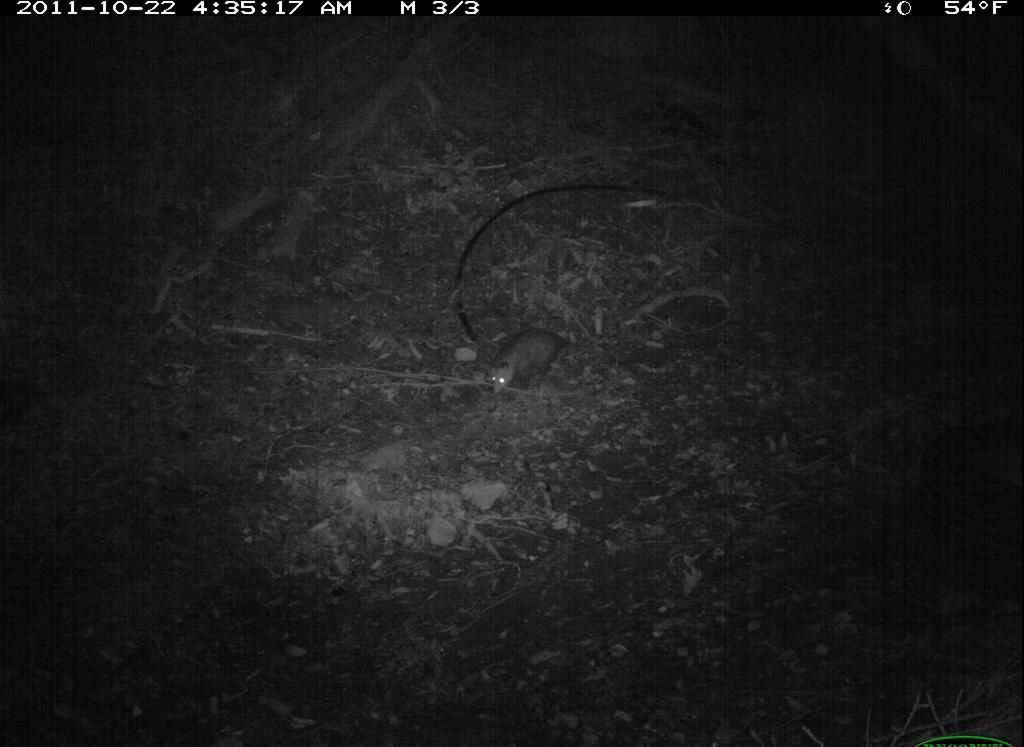opossum: (461, 323, 589, 401)
